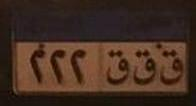2: (28, 50, 47, 85), (48, 50, 68, 83), (70, 49, 87, 83)
qaaf: (104, 49, 131, 86), (159, 50, 185, 86), (133, 50, 157, 85)
